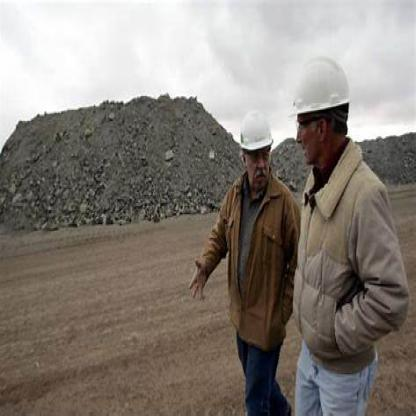person: (294, 35, 415, 405), (197, 78, 298, 415)
